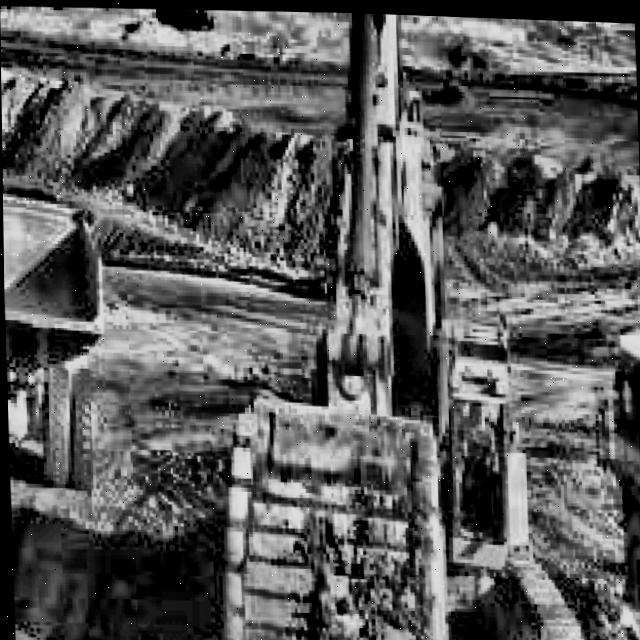dump_truck: (2, 173, 101, 510)
excavator: (191, 6, 585, 640)
